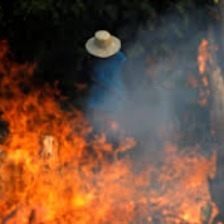incendio: (1, 142, 221, 218), (1, 78, 81, 198), (188, 38, 219, 105)
pessoas: (82, 21, 136, 139)
